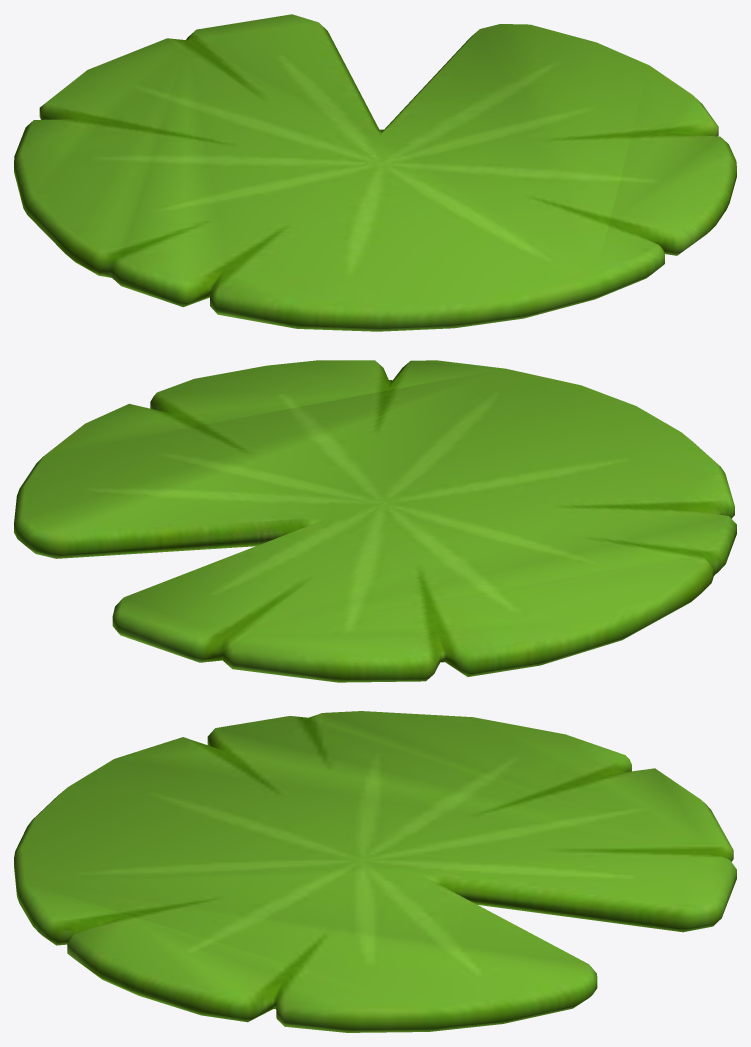
Rendered from lilly.fbx.
3 renders of one model, top to bottom at view 1: azimuth 30°, elevation 25°; view 2: azimuth 150°, elevation 25°; view 3: azimuth 270°, elevation 25°, orthographic.
Visible parts, largest first — view 1: lilly; view 2: lilly; view 3: lilly.
Boxes of the visible parts, bbox=[...] form: lilly: bbox=[14, 14, 736, 331]; lilly: bbox=[14, 360, 736, 682]; lilly: bbox=[14, 711, 736, 1032].
Bounding box in the file's own units: 68.37 × 2.5 × 68.6.
